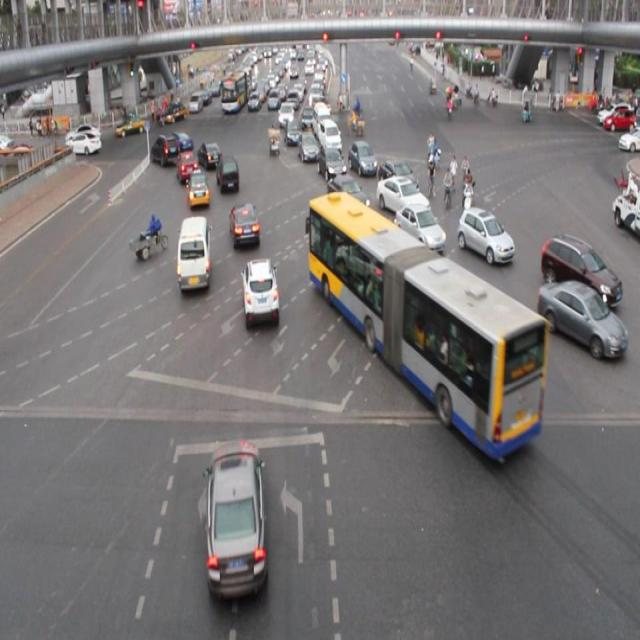car: (206, 441, 269, 594), (537, 280, 626, 356), (539, 234, 620, 302), (456, 205, 513, 262), (242, 257, 280, 325), (394, 202, 444, 252), (376, 174, 430, 217), (326, 174, 368, 215), (228, 202, 260, 251), (376, 159, 418, 194), (347, 141, 377, 177), (319, 144, 345, 182), (216, 153, 240, 194), (151, 134, 180, 167), (187, 170, 210, 208), (175, 149, 200, 183), (297, 130, 319, 162), (197, 140, 220, 168)
truck: (176, 215, 212, 292)
van: (308, 191, 546, 455)
